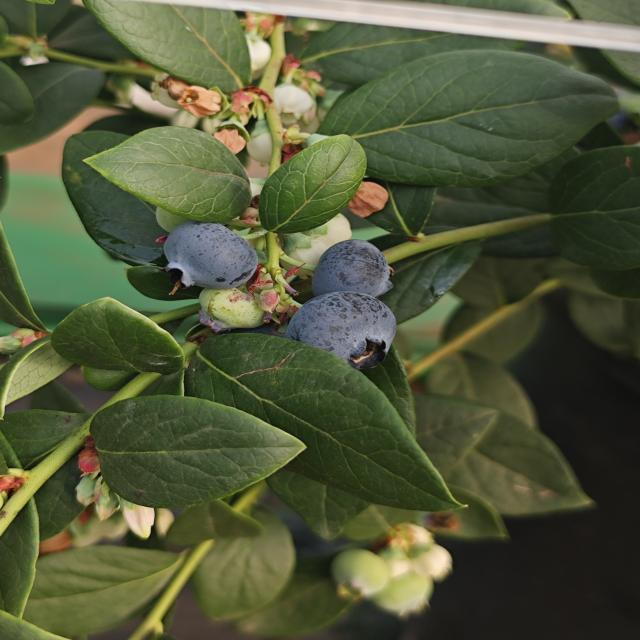ripe: (284, 290, 399, 371), (158, 219, 261, 297), (308, 237, 396, 299)
